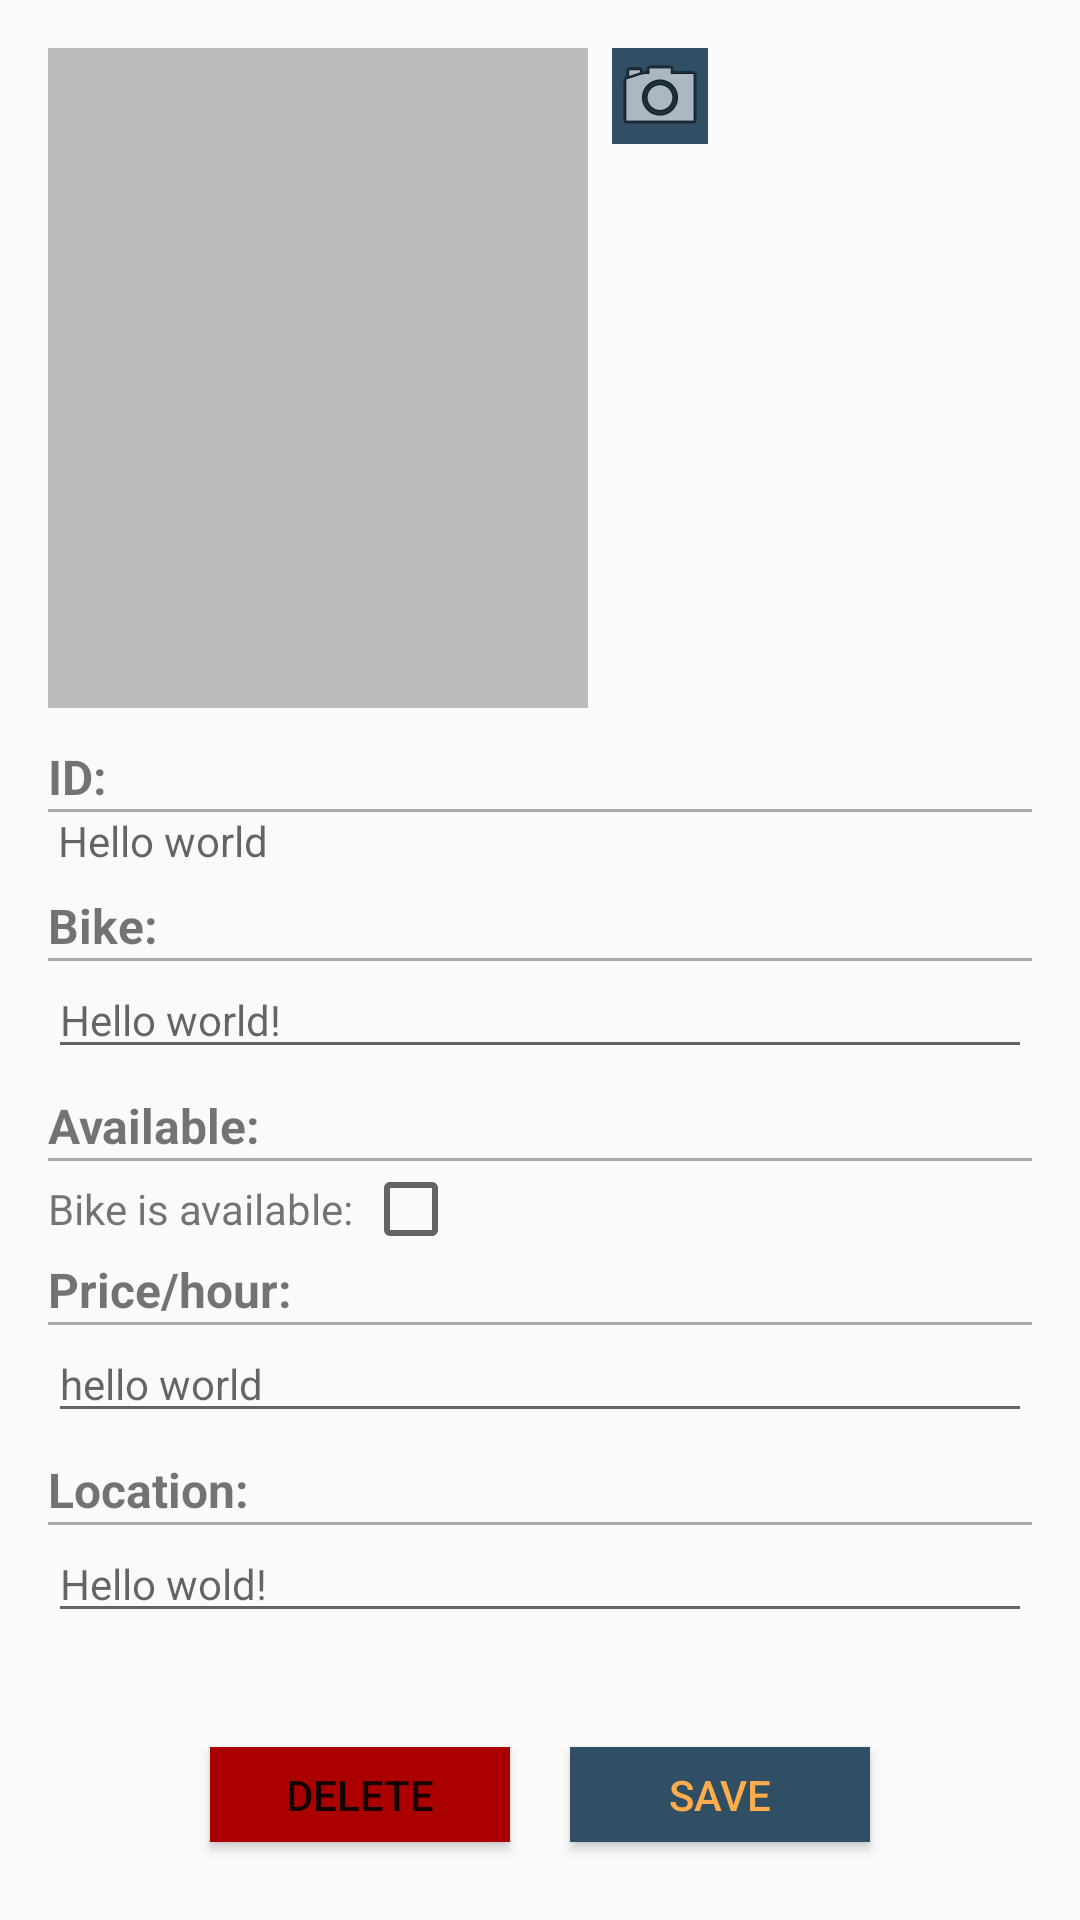

Icons on this 1080px×1920px Android screen, each with its box as Rect(x1, y1, x2, y2):
camera: Rect(612, 48, 708, 144)
